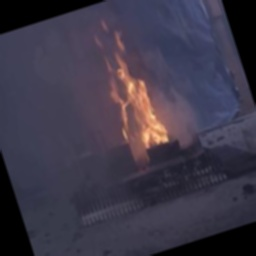fire: (87, 18, 167, 157)
